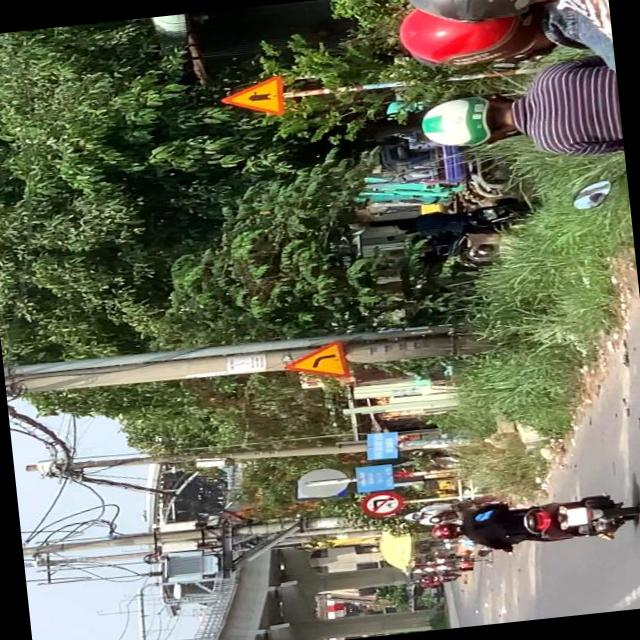W-201a: (280, 338, 350, 387)
W-207b: (213, 74, 286, 120)
